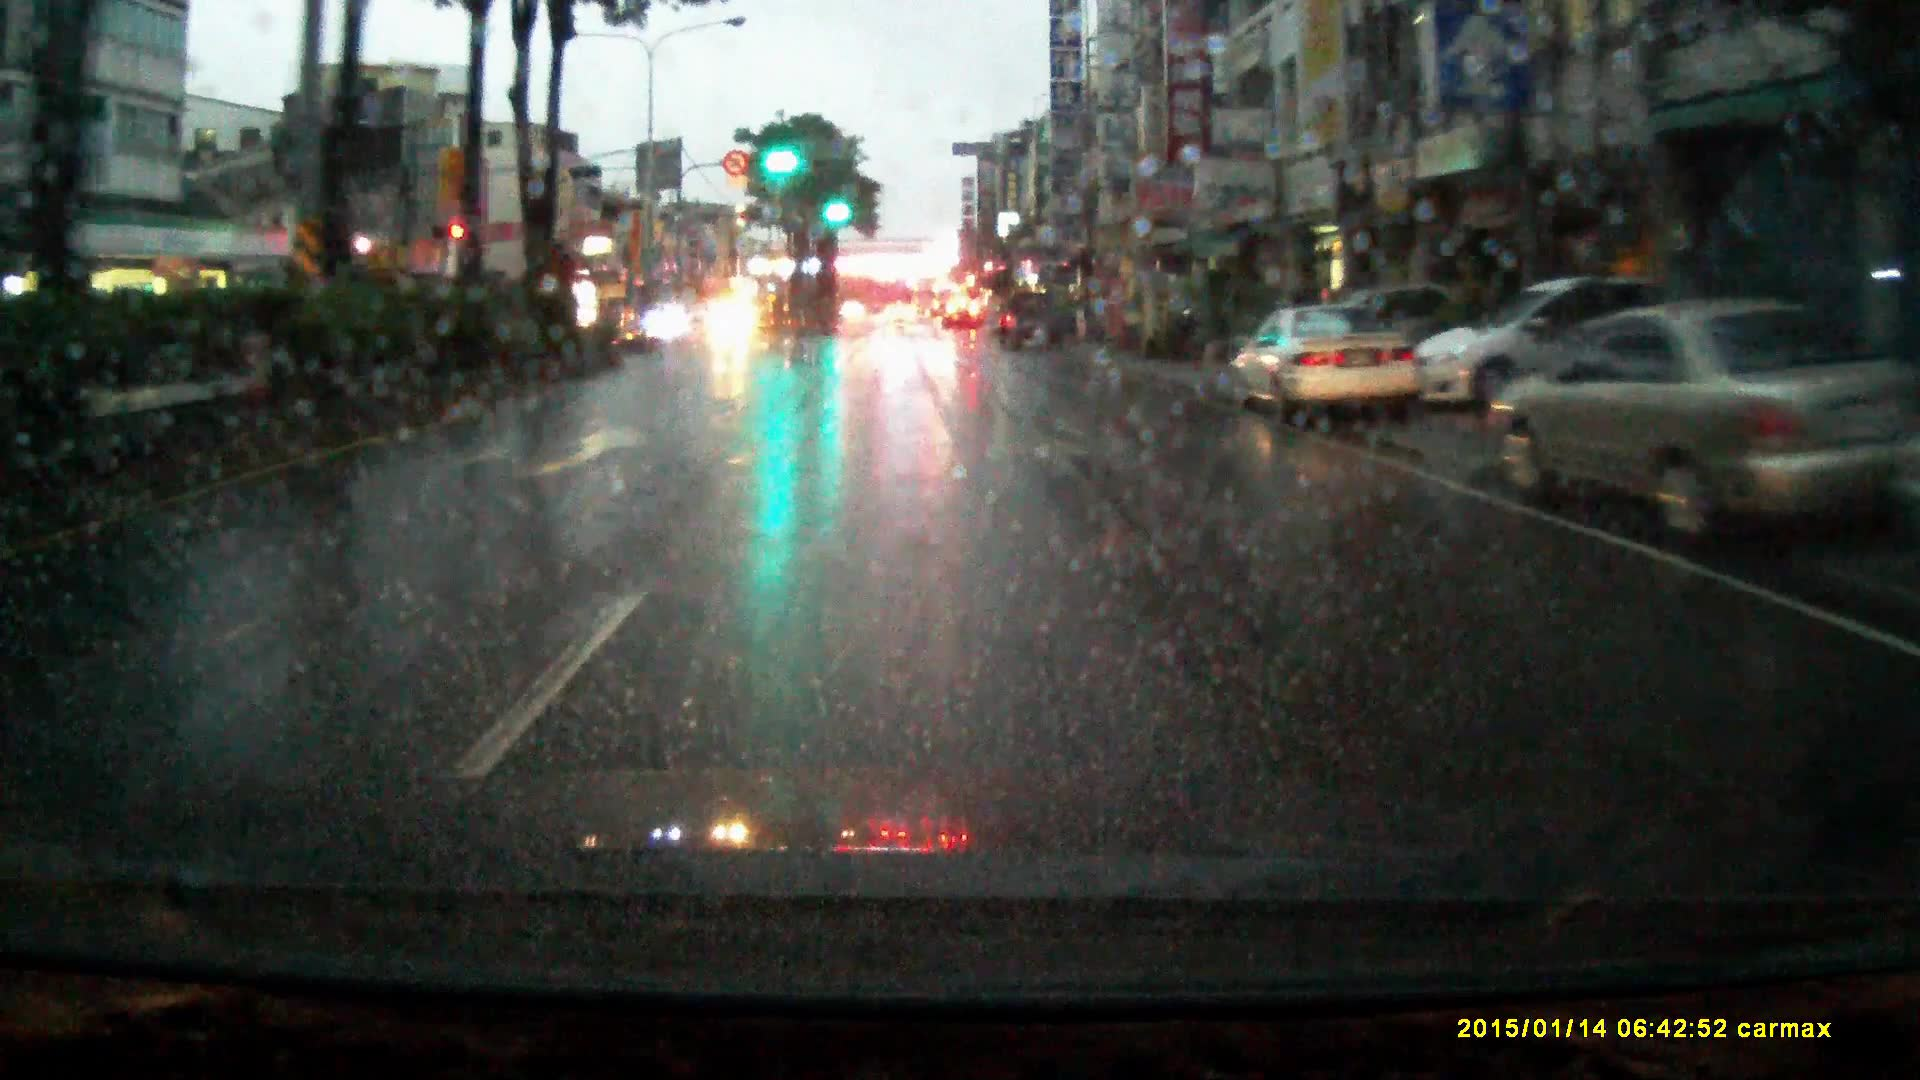vehicle: (1507, 301, 1891, 545), (1412, 276, 1683, 415), (1226, 297, 1422, 429), (1000, 289, 1063, 347), (699, 299, 761, 352), (644, 306, 688, 338), (914, 282, 942, 324), (944, 301, 981, 331), (884, 307, 916, 327)
